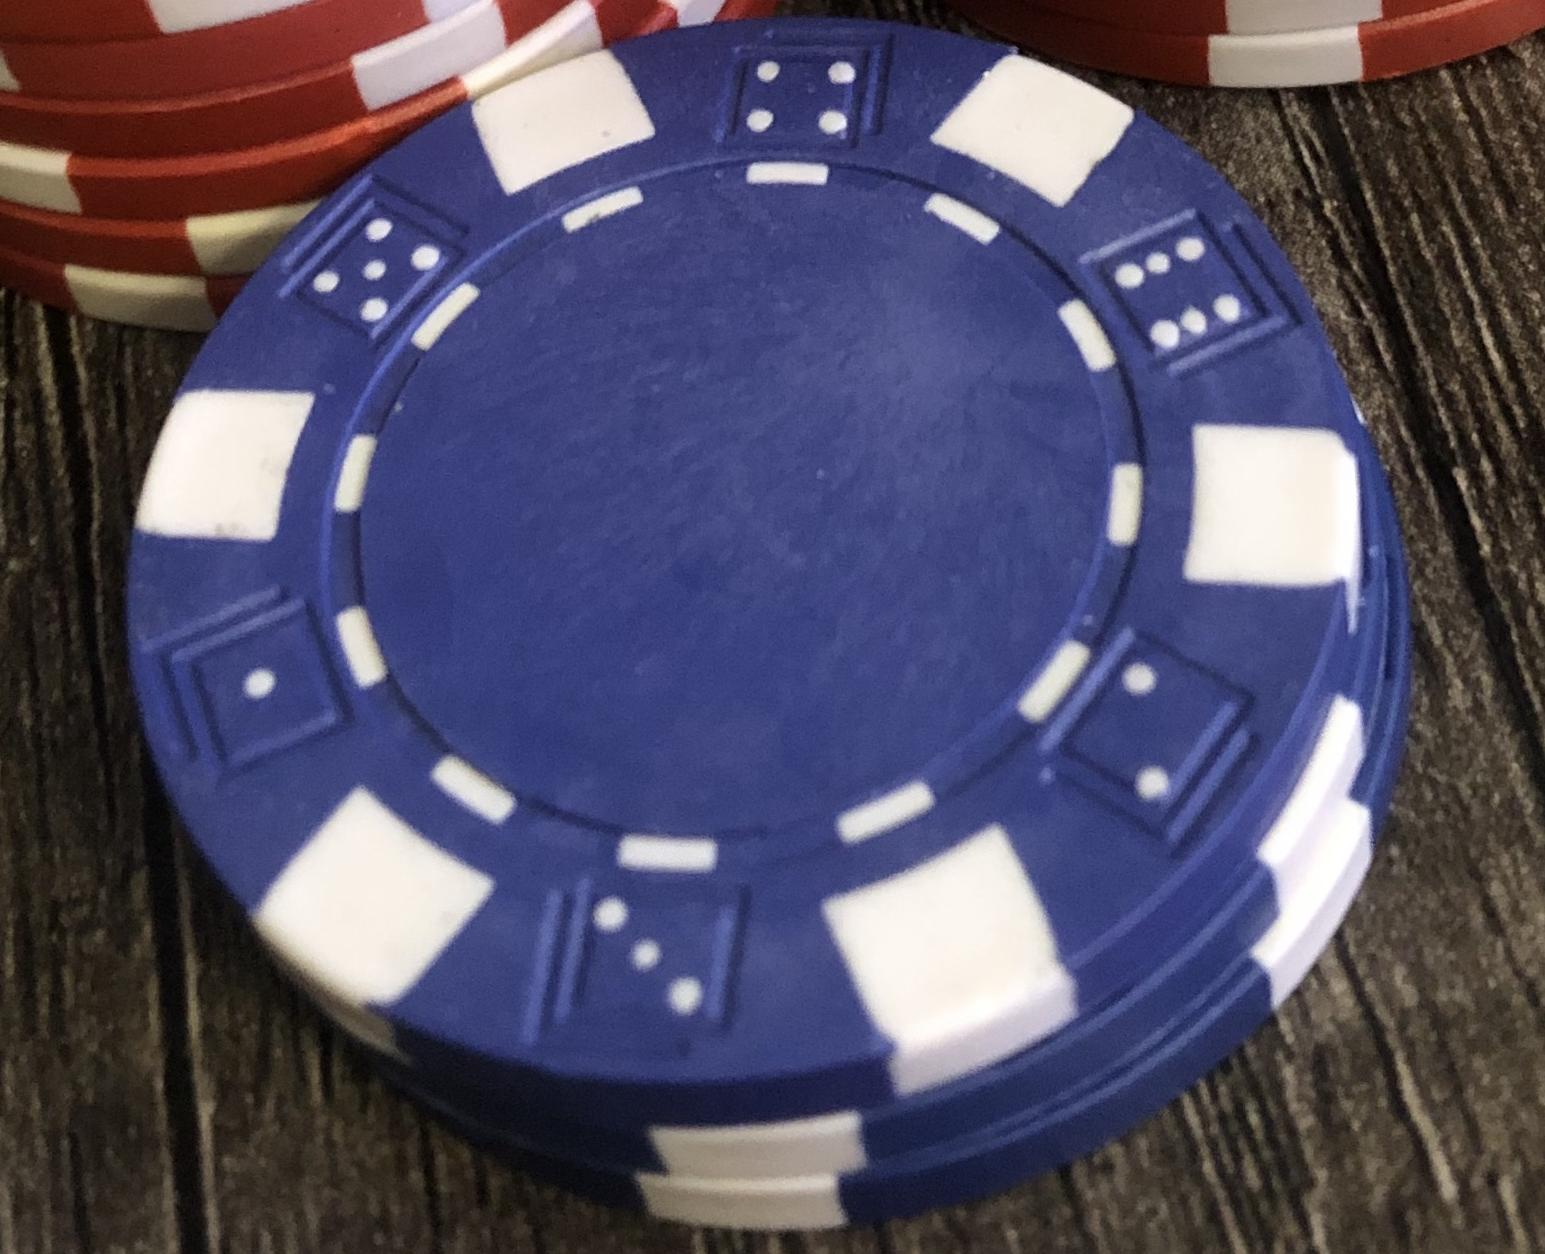Chip: (1, 1, 1545, 1254)
